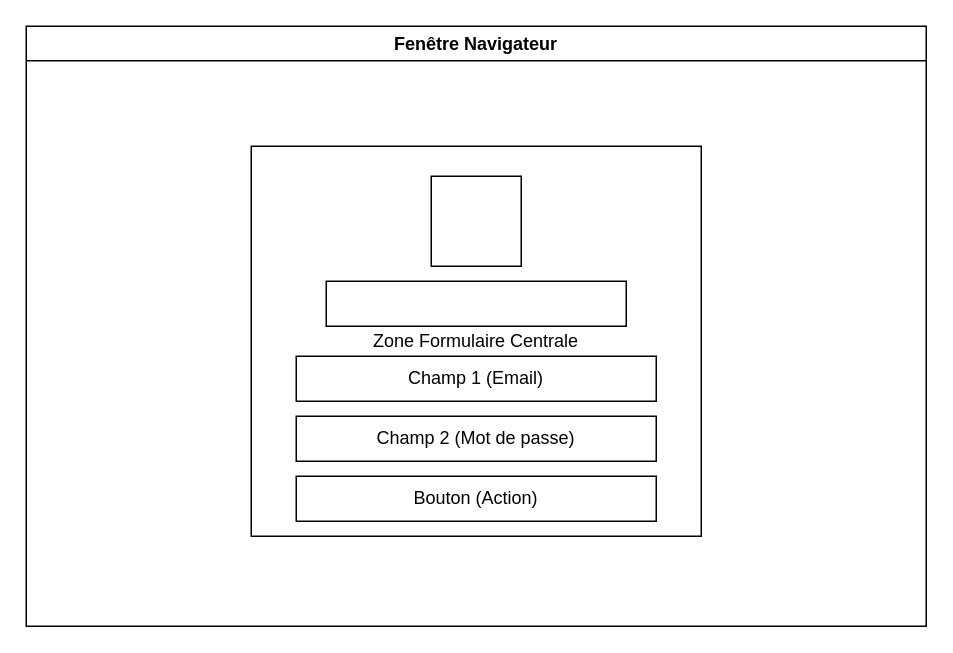
Some shapes in this 953 by 653 pixel diagram are drawn without their labels. Each missing label, with the centre of its shape:
"Logo" belongs at pixel 475 220.
"Titre" belongs at pixel 475 303.
